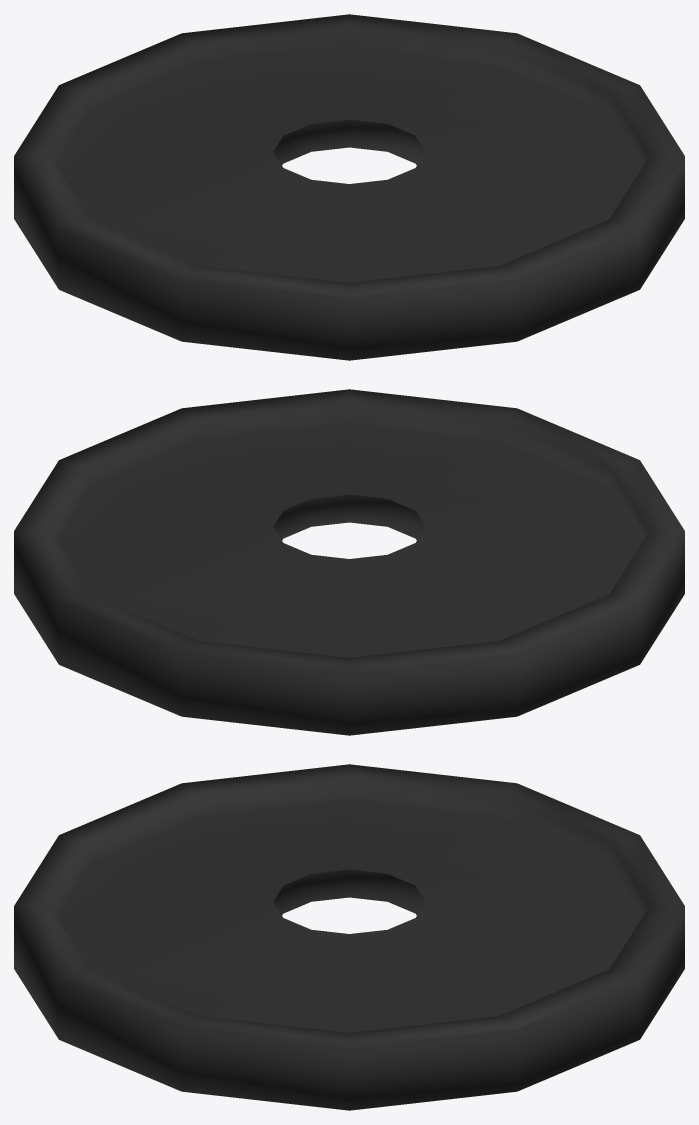
Rendered from BarbellPlateSingleSmall.glb.
3 views of the same model, one above another, from view 1: azimuth 30°, elevation 25°; view 2: azimuth 150°, elevation 25°; view 3: azimuth 270°, elevation 25° (orthographic).
Visible parts, largest first — view 1: BarbellPlateSingleSmall; view 2: BarbellPlateSingleSmall; view 3: BarbellPlateSingleSmall.
Boxes of the visible parts, x1=… form: BarbellPlateSingleSmall: x1=14, y1=14, x2=684, y2=360; BarbellPlateSingleSmall: x1=14, y1=389, x2=684, y2=735; BarbellPlateSingleSmall: x1=14, y1=764, x2=684, y2=1110.
Size of the model in its own units: 0.3175 by 0.035 by 0.3175.
Materials: 1 (1 with a texture image).
